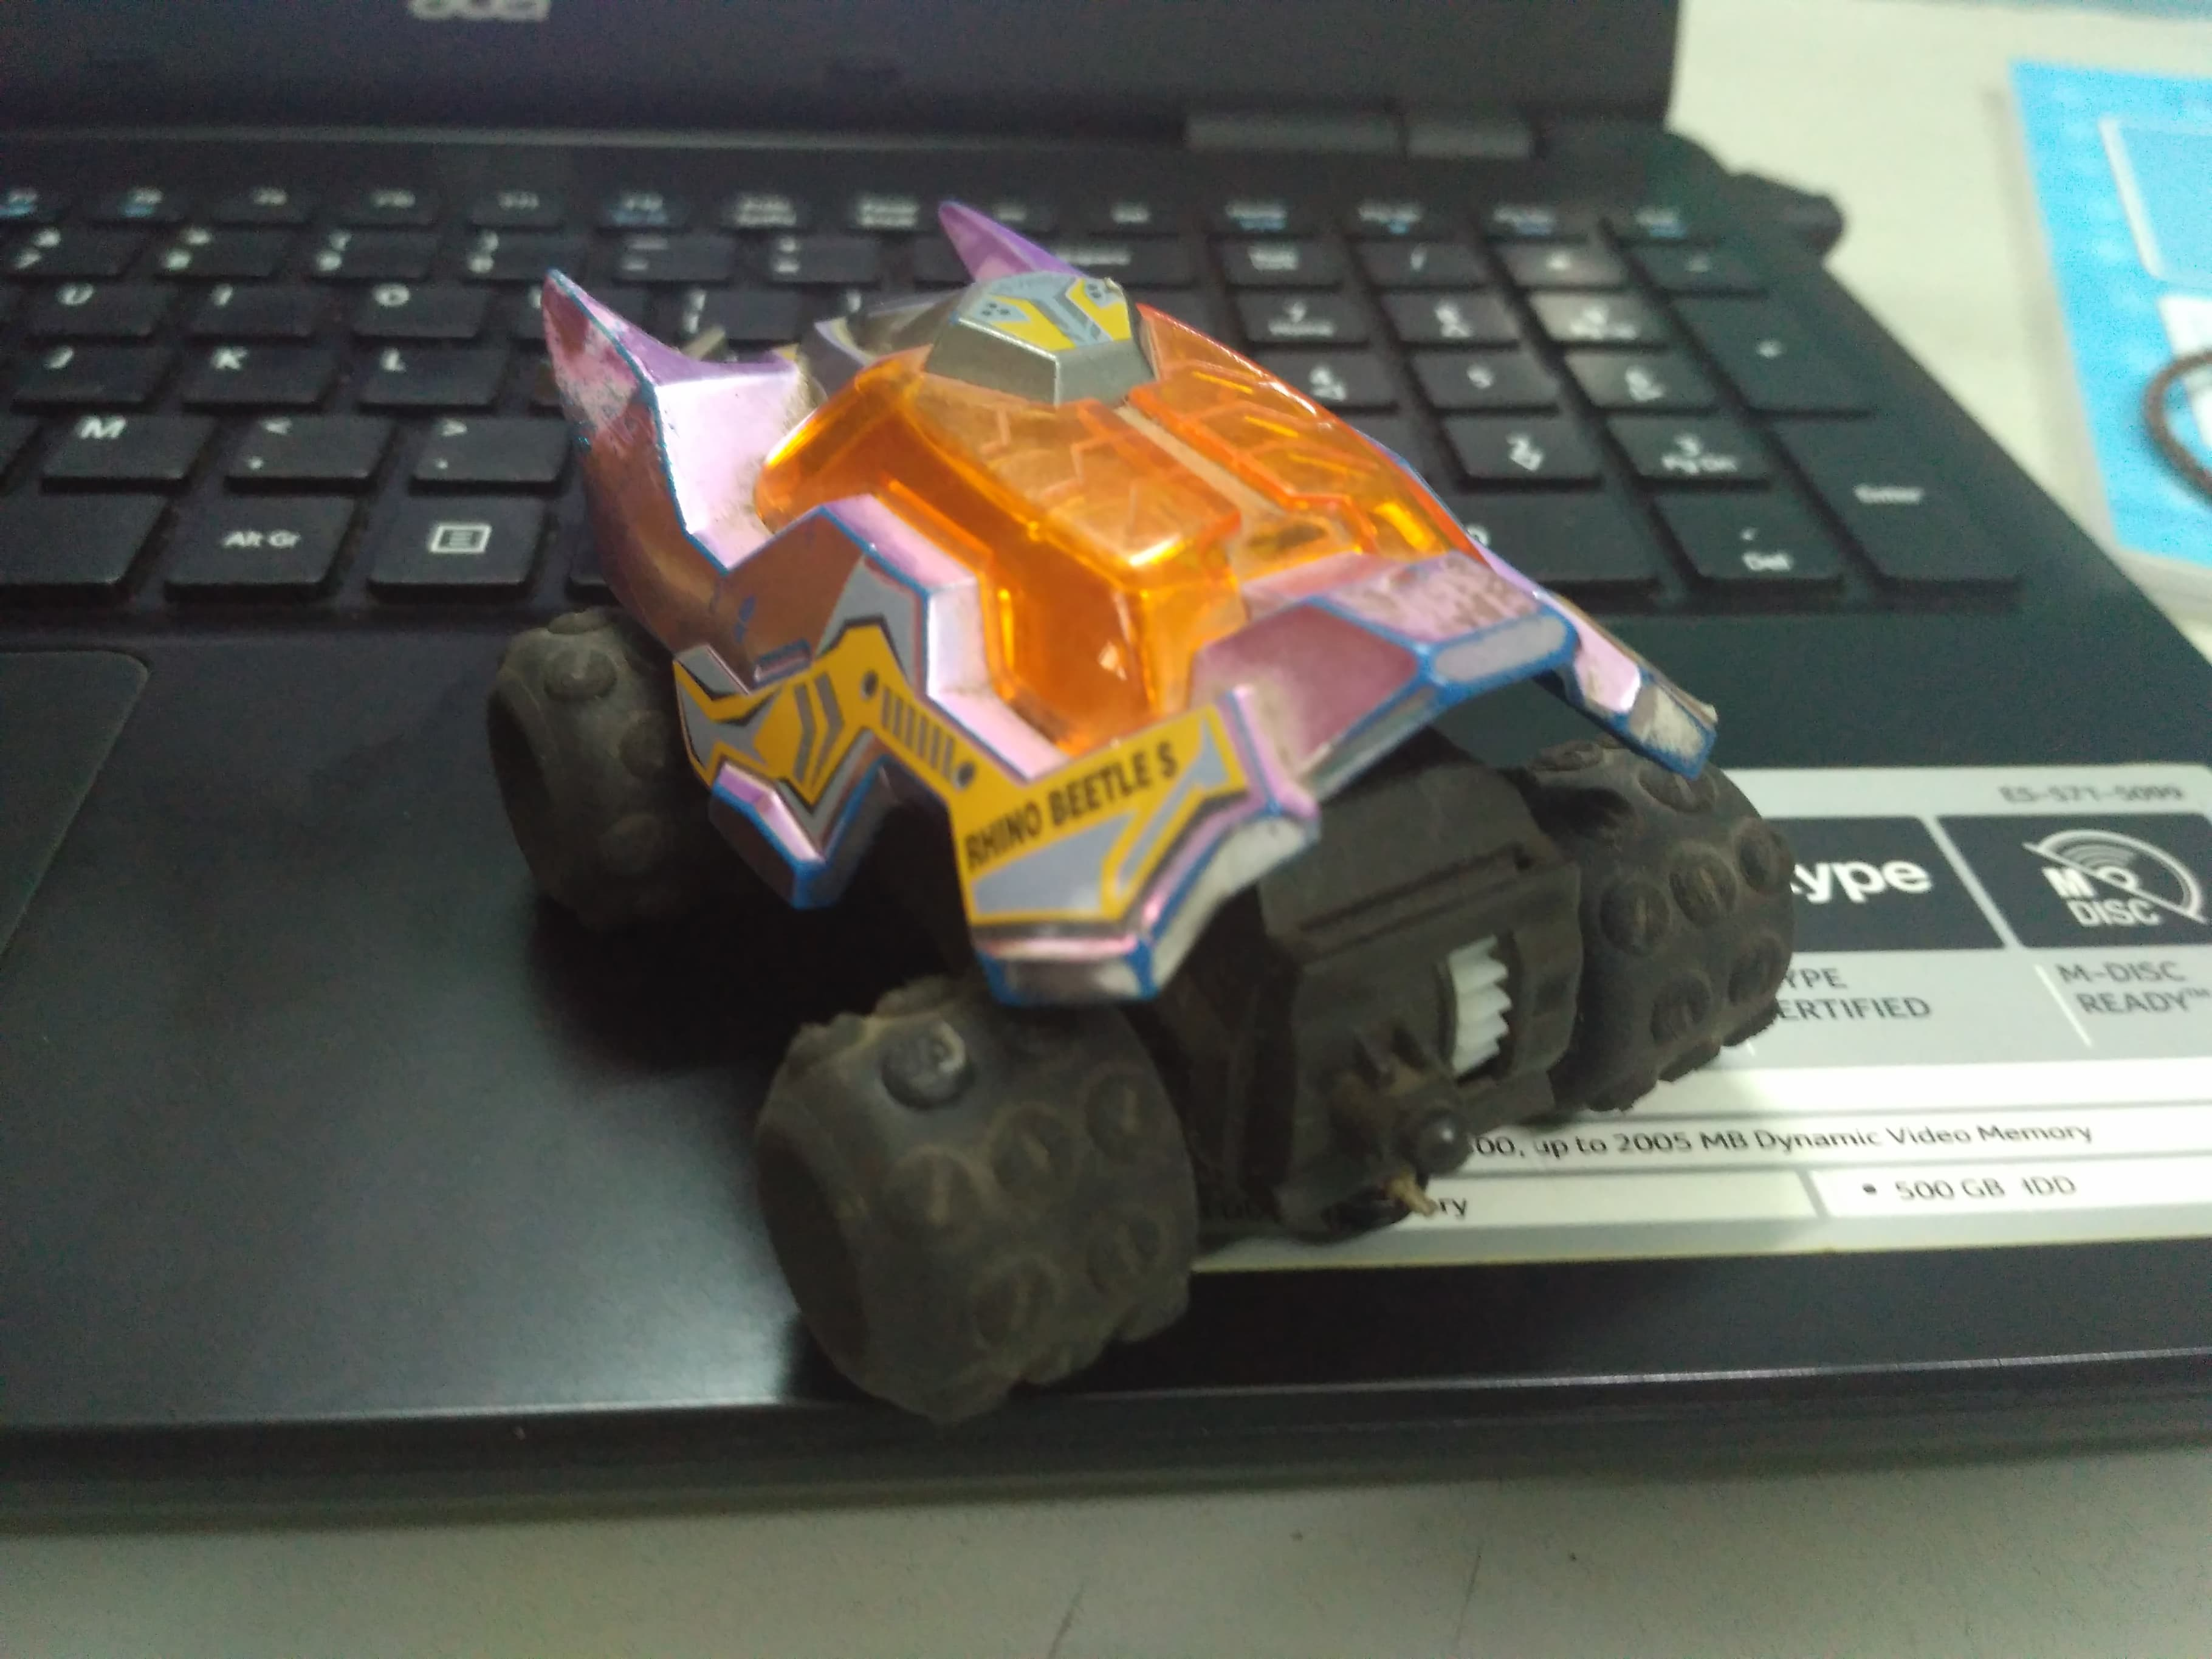rhino: (479, 193, 1813, 1438)
